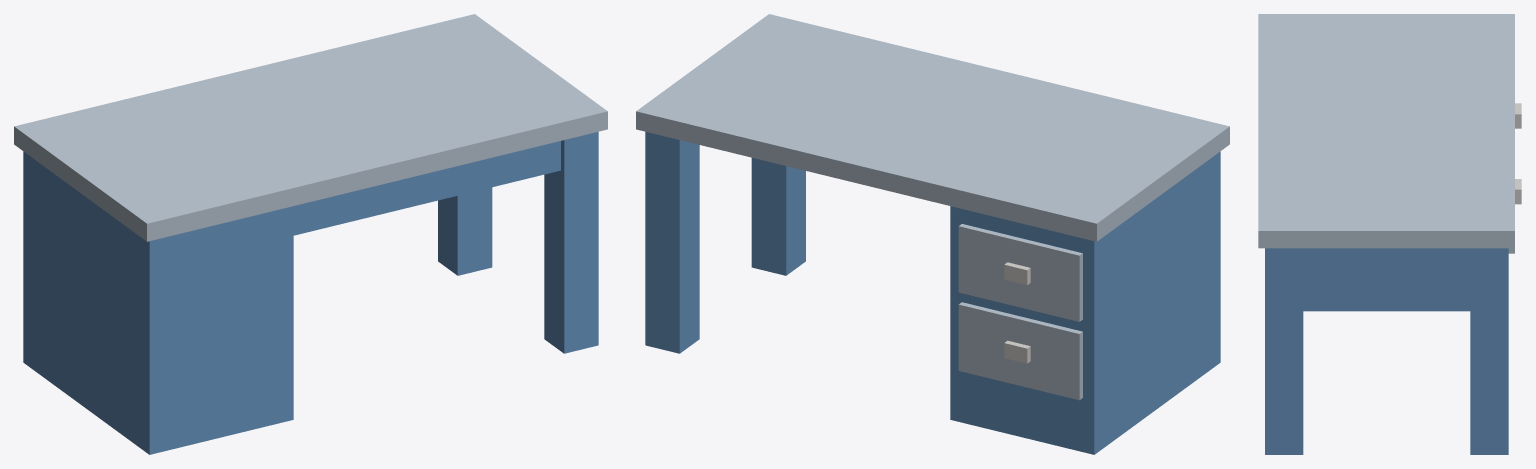
The model's file is ncb-desk-blue.glb.
3 views of the same model, side by side, from view 1: azimuth 30°, elevation 25°; view 2: azimuth 150°, elevation 25°; view 3: azimuth 270°, elevation 25° (orthographic). The views are drawn at different scales.
Visible parts, largest first — view 1: box-prop; view 2: box-prop; view 3: box-prop.
Boxes of the visible parts, x1,y1,x2,y2 form: box-prop: (14, 14, 607, 454); box-prop: (636, 14, 1229, 454); box-prop: (1258, 14, 1521, 454).
Bounding box in the file's own units: 1.6 × 0.78 × 0.82.
